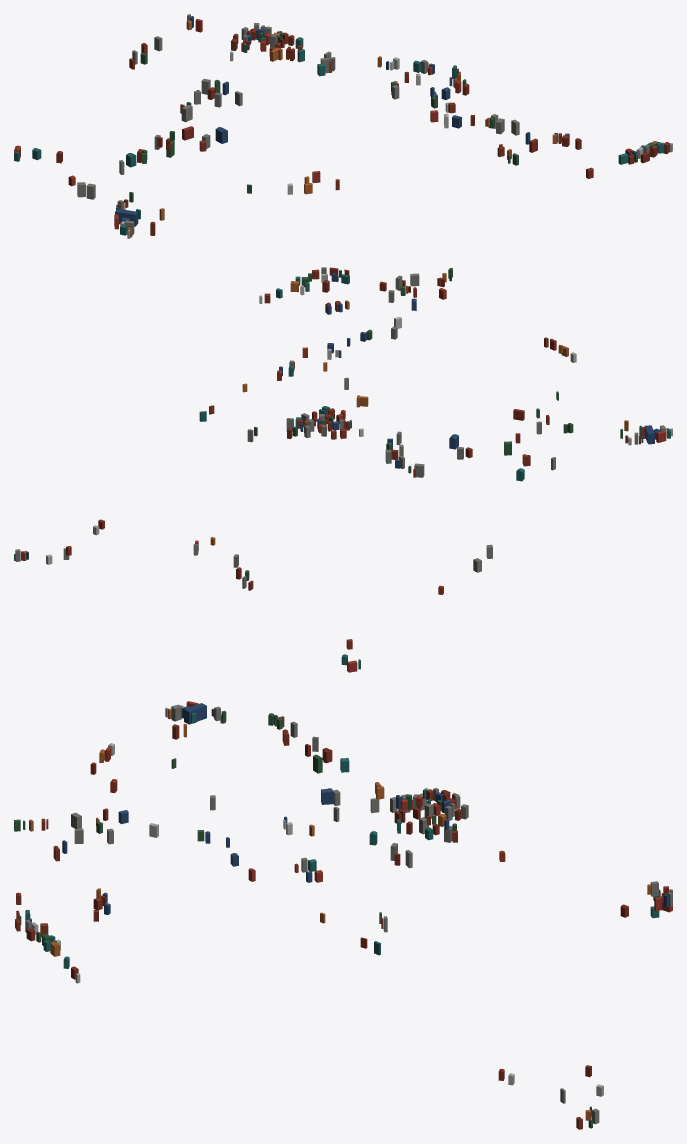
File: near-15-27365-14876.17eb1d7c.glb
The picture shows the model from 3 angles, top to bottom: view 1: azimuth 30°, elevation 25°; view 2: azimuth 150°, elevation 25°; view 3: azimuth 270°, elevation 25°; orthographic projection. The views are drawn at different scales.
Bounding box in the file's own units: 1182 × 426 × 1169.
